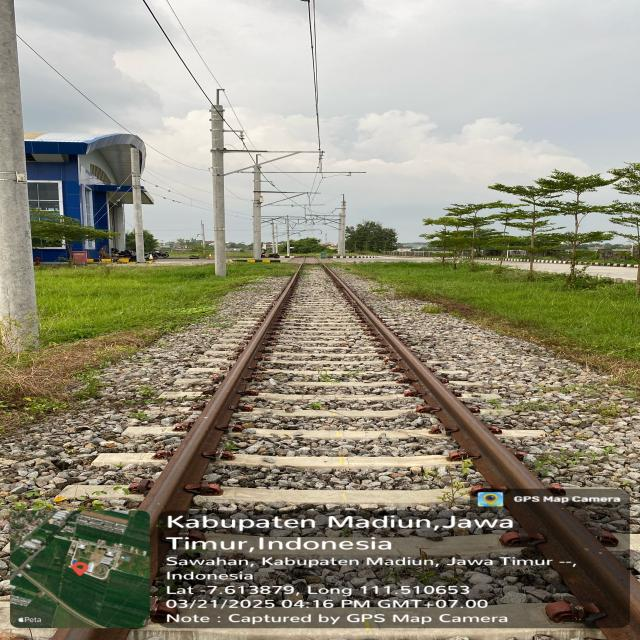rail-detection: (323, 265, 634, 627), (141, 271, 299, 579)
